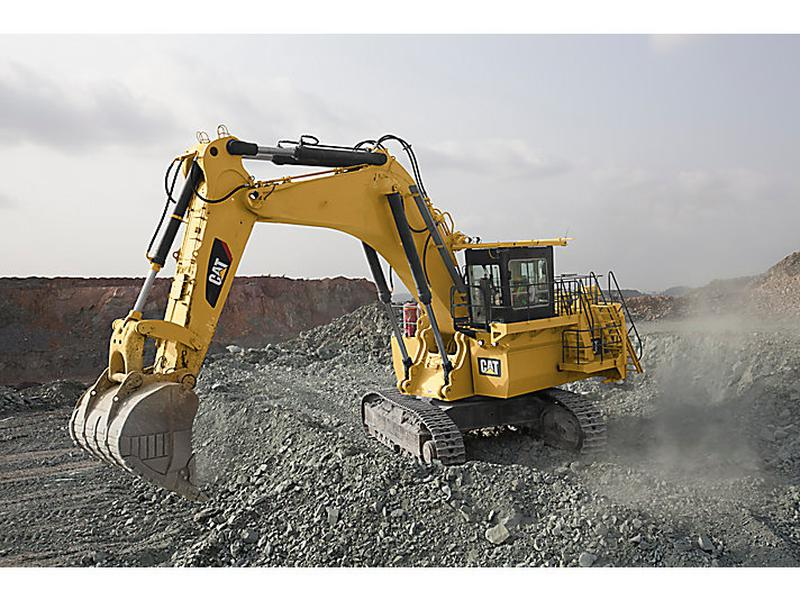shovel: (65, 119, 648, 492)
